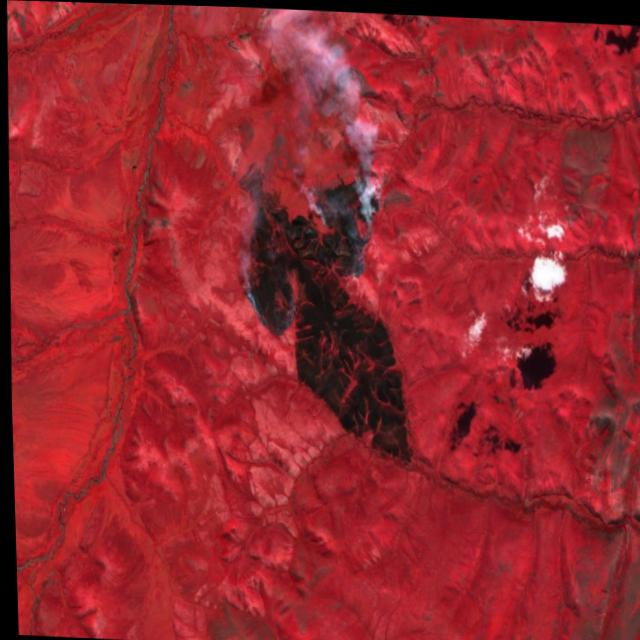fire: (221, 138, 418, 479)
